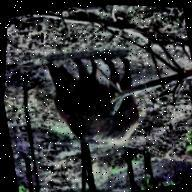boar: (29, 37, 164, 171)
